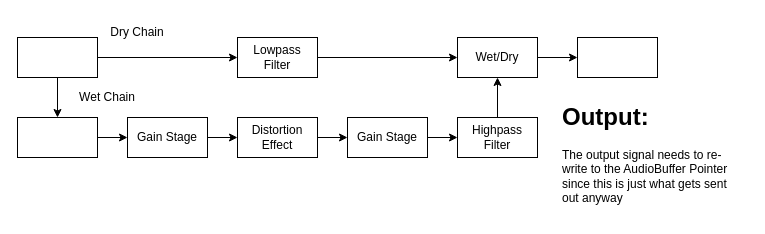
The diagram is 765 pixels wide and 234 high, and some of its shapes have lost their labels. Here are the shapes that lost their labels. From the top down, the centre of each, then its label:
point (57, 57): AudioBufer
point (617, 57): Output
point (57, 137): Fuzz Effect
